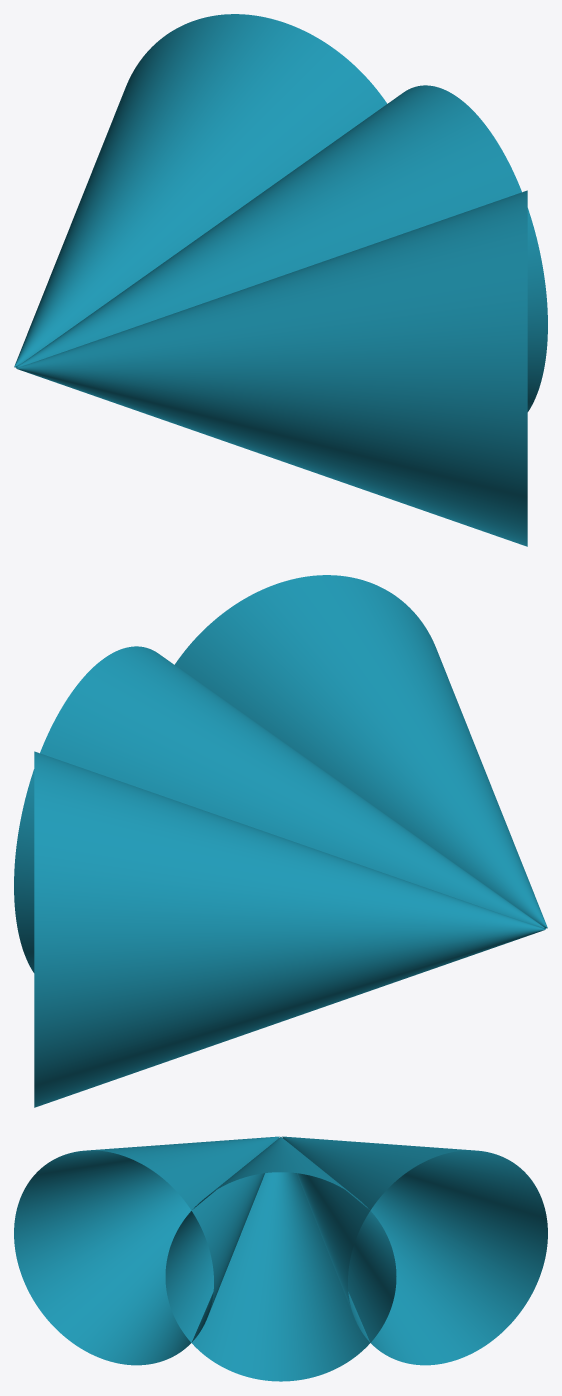
Rendered from mid100-fov.obj.
3 views of the same model, one above another, from view 1: azimuth 30°, elevation 25°; view 2: azimuth 150°, elevation 25°; view 3: azimuth 270°, elevation 25° (orthographic). The views are drawn at different scales.
Parts seen in each view (by area): view 1: NONE002, NONE001, NONE; view 2: NONE001, NONE002, NONE; view 3: NONE002, NONE001, NONE.
Boxes of the visible parts, x1=… form: NONE002: x1=16, y1=190, x2=527, y2=546; NONE001: x1=14, y1=14, x2=387, y2=367; NONE: x1=16, y1=85, x2=547, y2=411; NONE001: x1=34, y1=751, x2=545, y2=1107; NONE002: x1=174, y1=575, x2=547, y2=928; NONE: x1=14, y1=646, x2=545, y2=972; NONE002: x1=14, y1=1136, x2=279, y2=1365; NONE001: x1=282, y1=1136, x2=547, y2=1365; NONE: x1=165, y1=1137, x2=396, y2=1381.
Size of the model in its own units: 17667 by 11830 by 27347.
